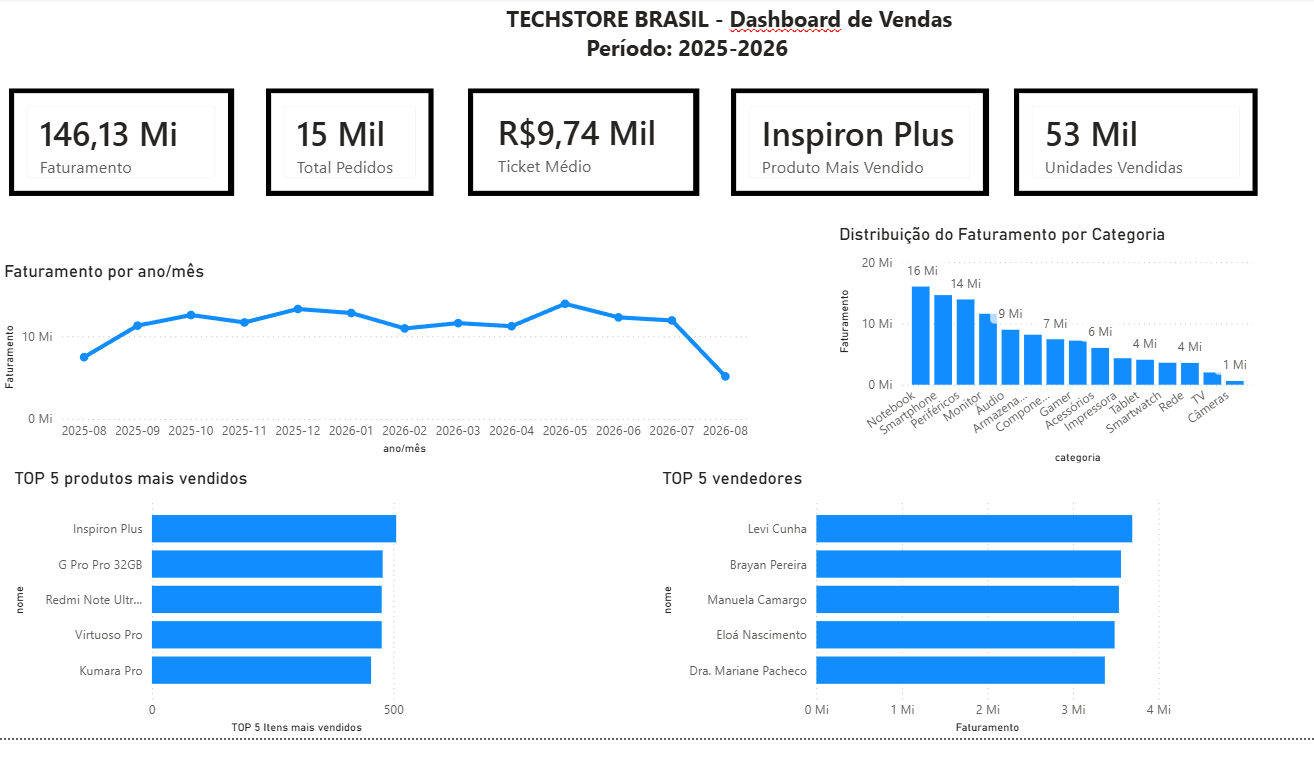

This screenshot's page, from the dashboard's own definition file:
{"tool":"powerbi","page":{"name":"Página 1","canvas":[1280,720],"ordinal":0},"visuals":[{"type":"cardVisual","fields":{"Data":["techsore_brasil vendas.Faturamento Total"]},"box":[9.7,87.5,218.8,105],"z":0},{"type":"cardVisual","fields":{"Data":["techsore_brasil vendas.Total Pedidos"]},"box":[259.7,87.5,163.4,105],"z":1000},{"type":"cardVisual","fields":{"Data":["techsore_brasil vendas.Ticket Médio"]},"box":[456.2,87.5,224.7,105],"z":2000},{"type":"lineChart","fields":{"Y":["techsore_brasil vendas.Faturamento Total"],"Category":["techsore_brasil vendas.ano/mês"]},"box":[0,255.8,736.3,192.6],"z":3000},{"type":"lineClusteredColumnComboChart","title":" Distribuição do Faturamento por Categoria","fields":{"Category":["techsore_brasil categorias.nome_categoria"],"Y":["techsore_brasil vendas.Faturamento Total"]},"box":[812.2,219.8,412.4,237.3],"z":4000},{"type":"barChart","title":"TOP 5 produtos mais vendidos ","fields":{"Category":["techsore_brasil produtos.nome"],"Y":["techsore_brasil vendas.Total Itens Vendidos"]},"box":[9.7,457.1,435.7,262.6],"z":5000},{"type":"barChart","title":"TOP 5 vendedores ","fields":{"Category":["techsore_brasil vendedores.nome"],"Y":["techsore_brasil vendas.Faturamento Total"]},"box":[640,457.1,504.8,262.6],"z":6000},{"type":"cardVisual","fields":{"Data":["techsore_brasil vendas.Produto Mais Vendido"]},"box":[712,87.5,250.9,105],"z":7000},{"type":"cardVisual","fields":{"Data":["techsore_brasil vendas.Quantidade Mais Vendida"]},"box":[987.2,87.5,237.3,105],"z":8000},{"type":"textbox","box":[0,0,1280,87.5],"z":9000}]}

Visuals, with their boxes on the page's 1280x720 design canvas (x1, y1, x2, y2). These are canvas units, not pixel positions in the 1314x766 screenshot, which may show the page scaled, cropped or inside an application window:
cardVisual - techsore_brasil vendas.Faturamento Total: (10, 88, 228, 192)
cardVisual - techsore_brasil vendas.Total Pedidos: (260, 88, 423, 192)
cardVisual - techsore_brasil vendas.Ticket Médio: (456, 88, 681, 192)
lineChart - techsore_brasil vendas.Faturamento Total x techsore_brasil vendas.ano/mês: (0, 256, 736, 448)
" Distribuição do Faturamento por Categoria" lineClusteredColumnComboChart: (812, 220, 1225, 457)
"TOP 5 produtos mais vendidos " barChart: (10, 457, 445, 720)
"TOP 5 vendedores " barChart: (640, 457, 1145, 720)
cardVisual - techsore_brasil vendas.Produto Mais Vendido: (712, 88, 963, 192)
cardVisual - techsore_brasil vendas.Quantidade Mais Vendida: (987, 88, 1224, 192)
textbox: (0, 0, 1280, 88)
